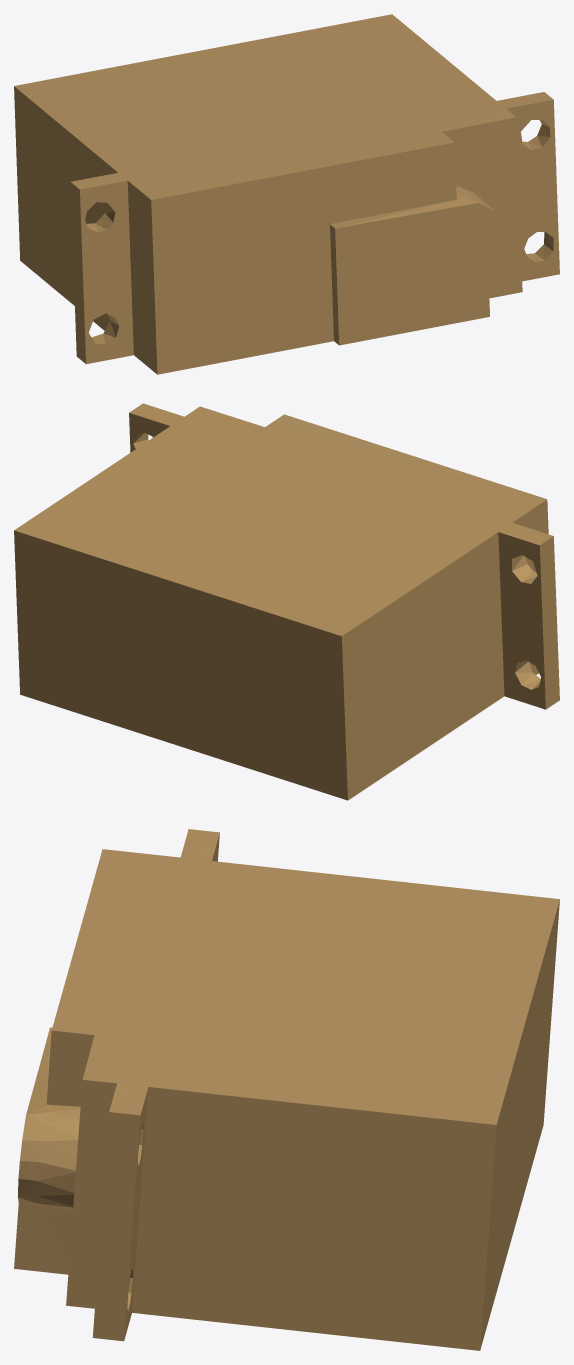
File: torso_z_link_visual_10.obj.full.glb
3 views of the same model, one above another, from view 1: azimuth 30°, elevation 25°; view 2: azimuth 150°, elevation 25°; view 3: azimuth 270°, elevation 25° (orthographic). The views are drawn at different scales.
Size of the model in its own units: 0.7744 by 0.3198 by 0.6177.
